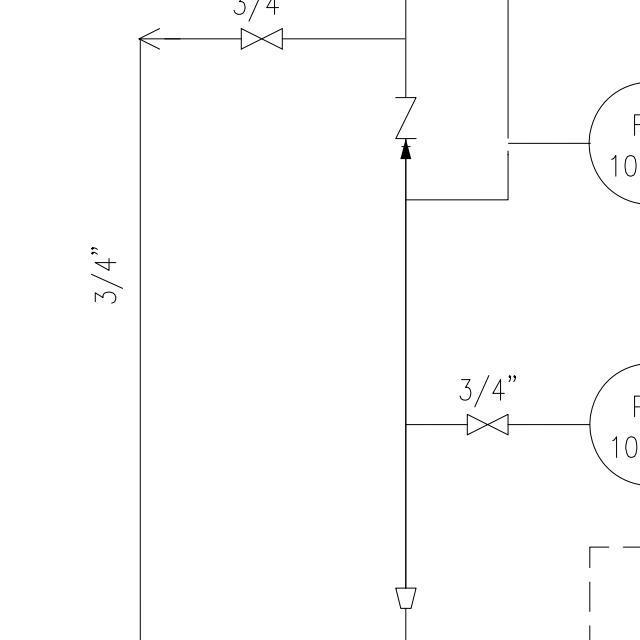GV: (236, 23, 288, 53), (462, 409, 512, 440)
SP: (393, 582, 419, 613)
